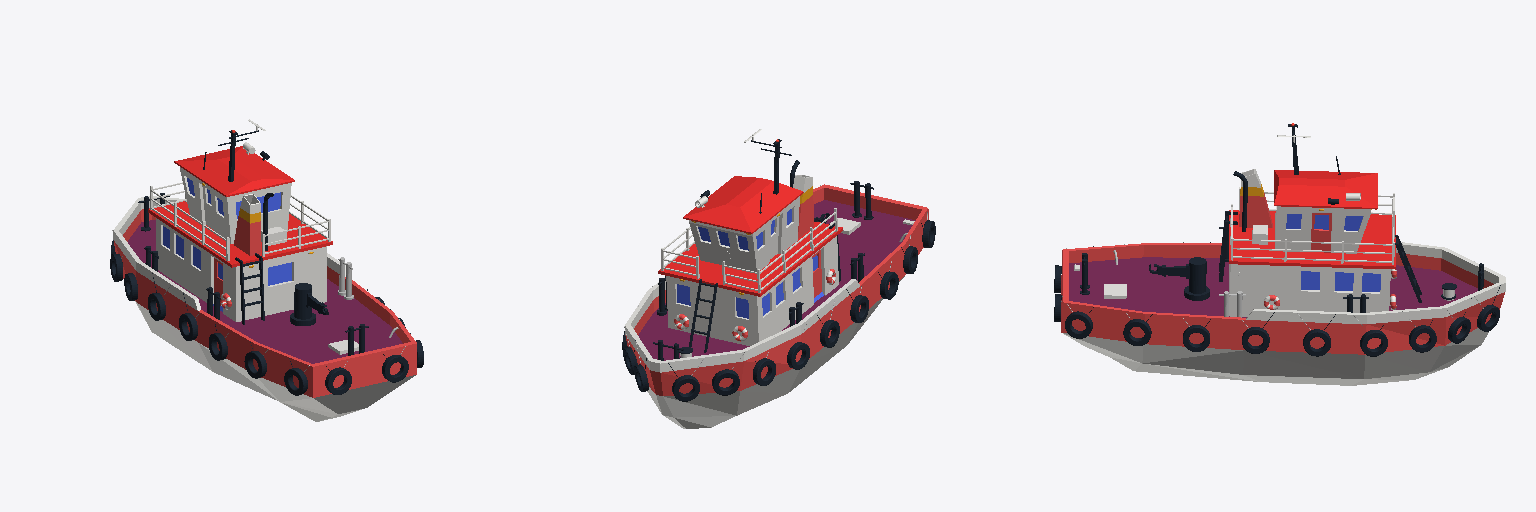
The model's file is Boat.obj.
3 views of the same model, side by side, from view 1: azimuth 30°, elevation 25°; view 2: azimuth 150°, elevation 25°; view 3: azimuth 270°, elevation 25° (orthographic).
Parts seen in each view (by area): view 1: Body_Mesh.149, Floor_1_Mesh.148, Floor_2_Mesh.150, Roof_Mesh.311, Cube_2_4_Mesh.315, Pipe_Big_Mesh.314, Cylinder_5_Mesh.155; view 2: Body_Mesh.149, Floor_1_Mesh.148, Floor_2_Mesh.150, Roof_Mesh.311, Cube_2_4_Mesh.315, Pipe_Big_Mesh.314; view 3: Body_Mesh.149, Floor_1_Mesh.148, Cube_2_4_Mesh.315, Floor_2_Mesh.150, Roof_Mesh.311, Pipe_Big_Mesh.314, Cylinder_5_Mesh.155.
Boxes of the visible parts, x1=… form: Body_Mesh.149: x1=113, y1=196, x2=416, y2=421; Floor_1_Mesh.148: x1=156, y1=218, x2=326, y2=321; Floor_2_Mesh.150: x1=180, y1=167, x2=291, y2=243; Roof_Mesh.311: x1=174, y1=146, x2=294, y2=196; Cube_2_4_Mesh.315: x1=148, y1=201, x2=332, y2=267; Pipe_Big_Mesh.314: x1=234, y1=194, x2=260, y2=255; Cylinder_5_Mesh.155: x1=294, y1=283, x2=311, y2=319; Body_Mesh.149: x1=625, y1=184, x2=928, y2=428; Floor_1_Mesh.148: x1=666, y1=236, x2=838, y2=345; Floor_2_Mesh.150: x1=689, y1=196, x2=799, y2=271; Roof_Mesh.311: x1=683, y1=176, x2=803, y2=233; Cube_2_4_Mesh.315: x1=658, y1=222, x2=842, y2=296; Pipe_Big_Mesh.314: x1=793, y1=175, x2=813, y2=238; Body_Mesh.149: x1=1061, y1=242, x2=1505, y2=385; Floor_1_Mesh.148: x1=1229, y1=264, x2=1390, y2=316; Cube_2_4_Mesh.315: x1=1229, y1=210, x2=1395, y2=269; Floor_2_Mesh.150: x1=1275, y1=206, x2=1370, y2=253; Roof_Mesh.311: x1=1274, y1=170, x2=1377, y2=209; Pipe_Big_Mesh.314: x1=1239, y1=169, x2=1272, y2=227; Cylinder_5_Mesh.155: x1=1189, y1=257, x2=1206, y2=293.
Size of the model in its own units: 5.68 by 8.07 by 13.26.